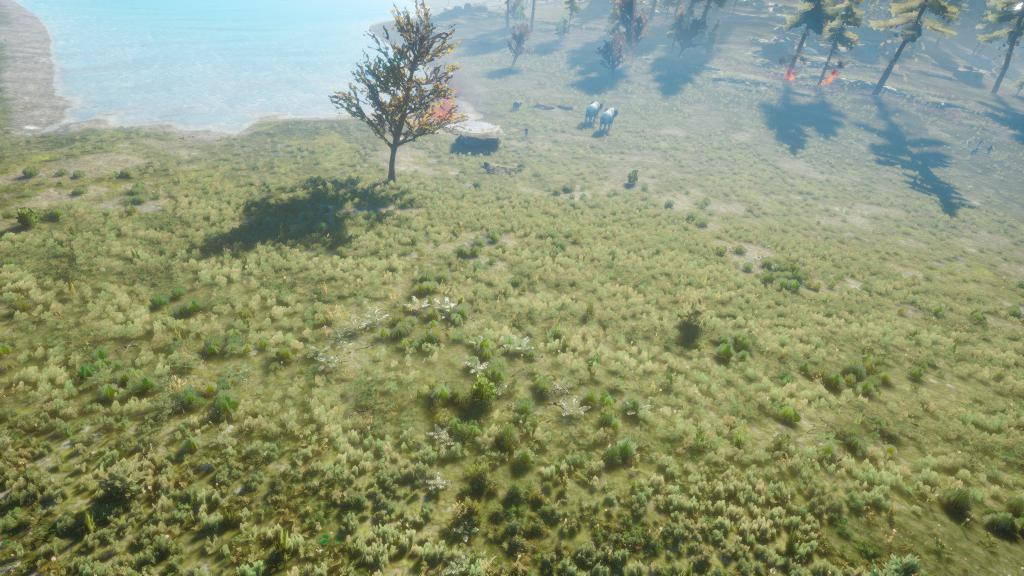Fire: (427, 100, 457, 127), (823, 69, 838, 87), (782, 66, 797, 82)
elephant: (598, 107, 619, 130), (587, 99, 602, 123), (510, 97, 524, 112)
human: (523, 125, 530, 139)
